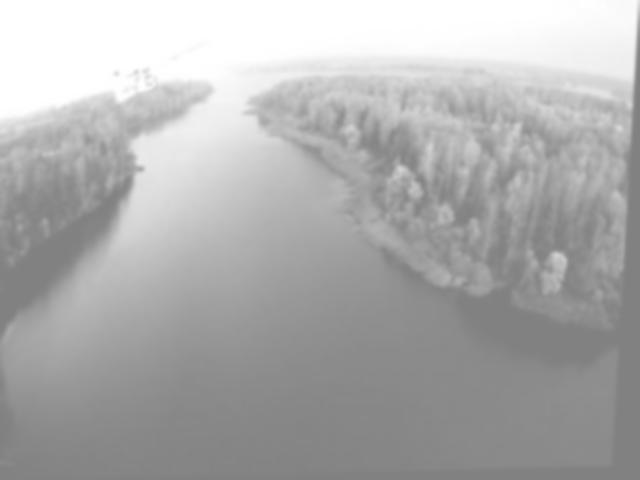hedef: (75, 26, 221, 125)
